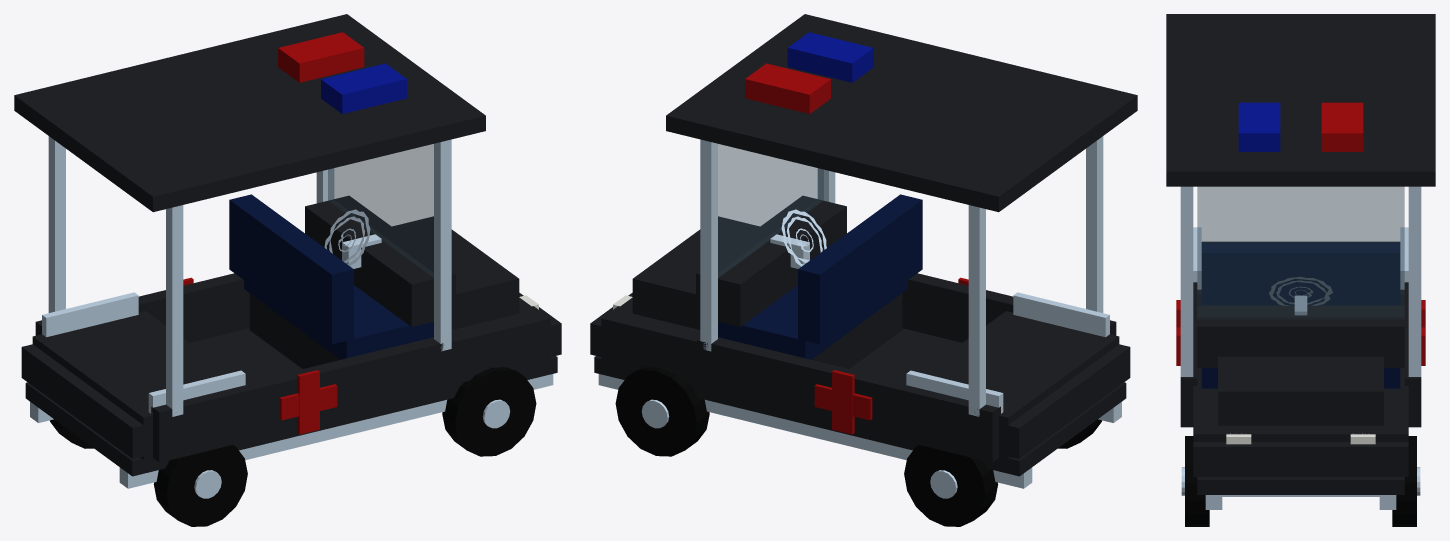
Rendered from carrito_emergencias.obj.
3 views of the same model, side by side, from view 1: azimuth 30°, elevation 25°; view 2: azimuth 150°, elevation 25°; view 3: azimuth 270°, elevation 25° (orthographic). The views are drawn at different scales.
Visible parts, largest first — view 1: Cabin_Roof_Plastic, Body_Sides_Plastic, Seats_Bench_Fabric, Wheels_Tires_Rubber, Cabin_Posts_Metal, Cabin_Windshield_Glass, Cabin_Dashboard_Plastic, Chassis_Floor_Plastic, Details_Bumpers_Plastic, Body_Deck_Rails_Metal, Chassis_Frame_Metal, Details_Beacon_Red (+4 smaller); view 2: Cabin_Roof_Plastic, Body_Sides_Plastic, Seats_Bench_Fabric, Wheels_Tires_Rubber, Cabin_Posts_Metal, Cabin_Windshield_Glass, Cabin_Dashboard_Plastic, Chassis_Floor_Plastic, Details_Bumpers_Plastic, Body_Deck_Rails_Metal, Chassis_Frame_Metal, Details_Beacon.001_Red.001 (+4 smaller); view 3: Cabin_Roof_Plastic, Cabin_Windshield_Glass, Body_Sides_Plastic, Seats_Bench_Fabric, Cabin_Dashboard_Plastic, Details_Bumpers_Plastic, Cabin_Posts_Metal, Chassis_Floor_Plastic, Wheels_Tires_Rubber, Details_Beacon_Red, Details_Beacon.001_Red.001, Body_Deck_Rails_Metal (+4 smaller).
Part boxes in pixels (bbox=[...]): Cabin_Roof_Plastic: bbox=[14, 14, 485, 212]; Body_Sides_Plastic: bbox=[32, 216, 550, 462]; Seats_Bench_Fabric: bbox=[229, 194, 433, 359]; Wheels_Tires_Rubber: bbox=[50, 367, 536, 526]; Cabin_Posts_Metal: bbox=[48, 136, 451, 416]; Cabin_Windshield_Glass: bbox=[328, 144, 433, 277]; Cabin_Dashboard_Plastic: bbox=[305, 195, 455, 326]; Chassis_Floor_Plastic: bbox=[25, 328, 557, 476]; Details_Bumpers_Plastic: bbox=[21, 293, 561, 458]; Body_Deck_Rails_Metal: bbox=[42, 292, 245, 413]; Chassis_Frame_Metal: bbox=[30, 374, 553, 488]; Details_Beacon_Red: bbox=[278, 32, 364, 82]; Cabin_Roof_Plastic: bbox=[666, 14, 1137, 212]; Body_Sides_Plastic: bbox=[601, 216, 1119, 462]; Seats_Bench_Fabric: bbox=[718, 194, 922, 359]; Wheels_Tires_Rubber: bbox=[615, 367, 1101, 526]; Cabin_Posts_Metal: bbox=[700, 136, 1103, 416]; Cabin_Windshield_Glass: bbox=[718, 144, 823, 277]; Cabin_Dashboard_Plastic: bbox=[696, 195, 846, 326]; Chassis_Floor_Plastic: bbox=[594, 328, 1126, 476]; Details_Bumpers_Plastic: bbox=[590, 293, 1130, 458]; Body_Deck_Rails_Metal: bbox=[906, 292, 1109, 413]; Chassis_Frame_Metal: bbox=[598, 374, 1121, 488]; Details_Beacon.001_Red.001: bbox=[787, 32, 873, 82]; Cabin_Roof_Plastic: bbox=[1166, 14, 1435, 186]; Cabin_Windshield_Glass: bbox=[1197, 187, 1404, 318]; Body_Sides_Plastic: bbox=[1180, 241, 1421, 441]; Seats_Bench_Fabric: bbox=[1201, 242, 1400, 388]; Cabin_Dashboard_Plastic: bbox=[1197, 305, 1404, 367]; Details_Bumpers_Plastic: bbox=[1193, 442, 1408, 476]; Cabin_Posts_Metal: bbox=[1180, 186, 1421, 376]; Chassis_Floor_Plastic: bbox=[1197, 368, 1404, 494]; Wheels_Tires_Rubber: bbox=[1185, 436, 1416, 526]; Details_Beacon_Red: bbox=[1321, 102, 1363, 151]; Details_Beacon.001_Red.001: bbox=[1238, 102, 1280, 151]; Body_Deck_Rails_Metal: bbox=[1193, 227, 1408, 289].
Bounding box in the file's own units: 2.32 × 1.92 × 1.3.
